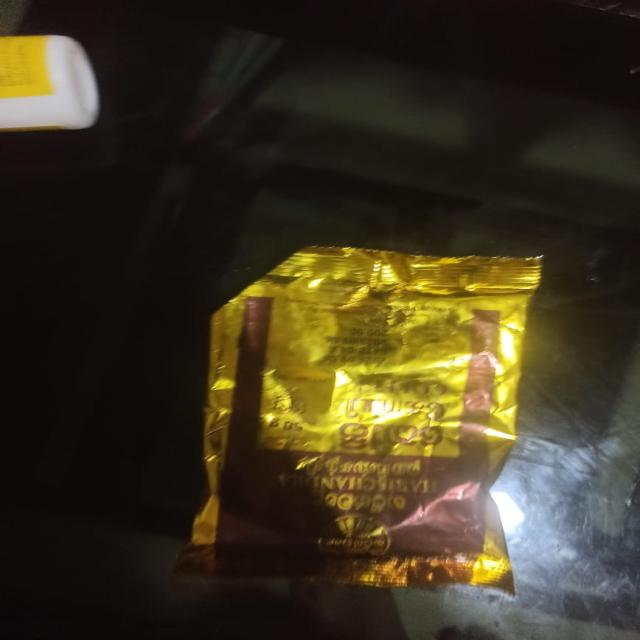Harischandra Coffee: (213, 275, 454, 526)
